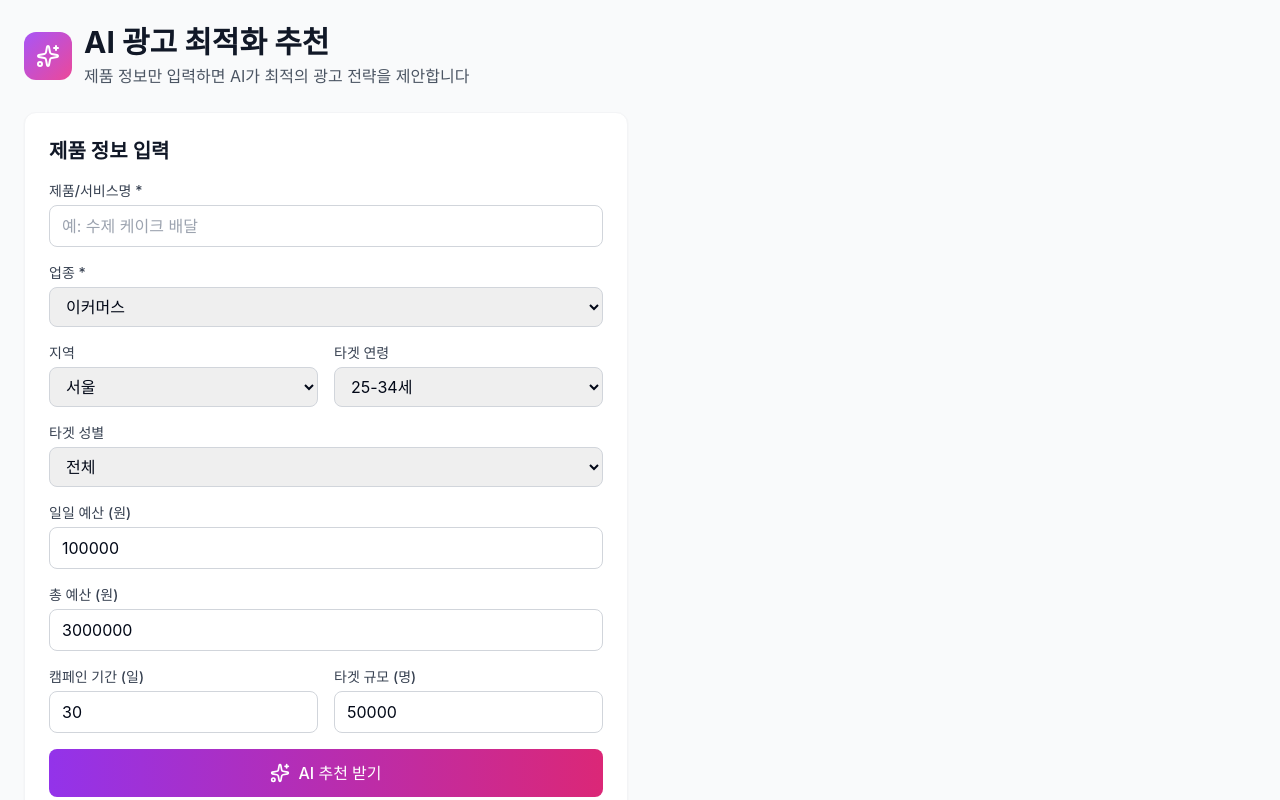
Test: AIRecommendationPage › 6. API 성공 — 신뢰도 medium → 노란색 배지 + "중간" 텍스트 표시
This screenshot has width=1280, height=800.
Type "수제 케이크" into the field with placeholder "예: 수제 케이크 배달" at (326, 226), box [49, 205, 603, 247]
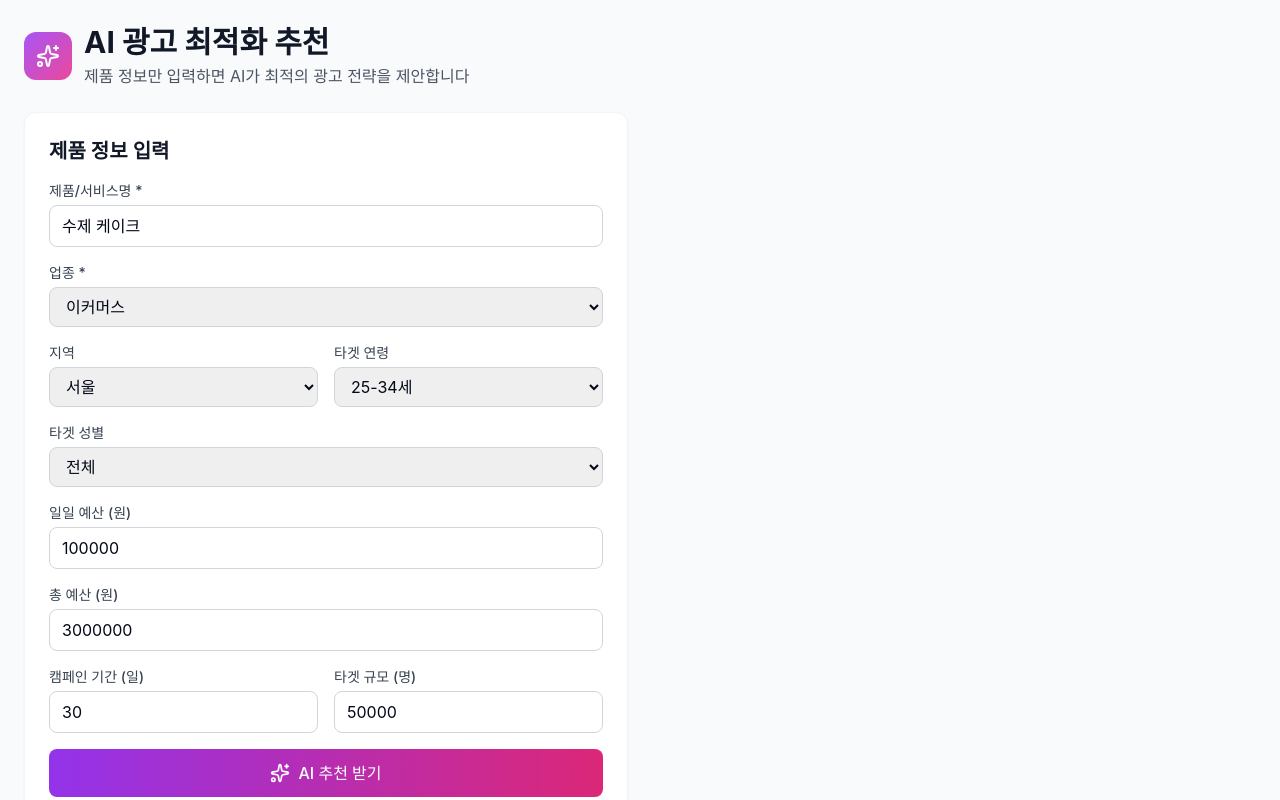
Click the button "AI 추천 받기" at (326, 773), box [49, 749, 603, 797]
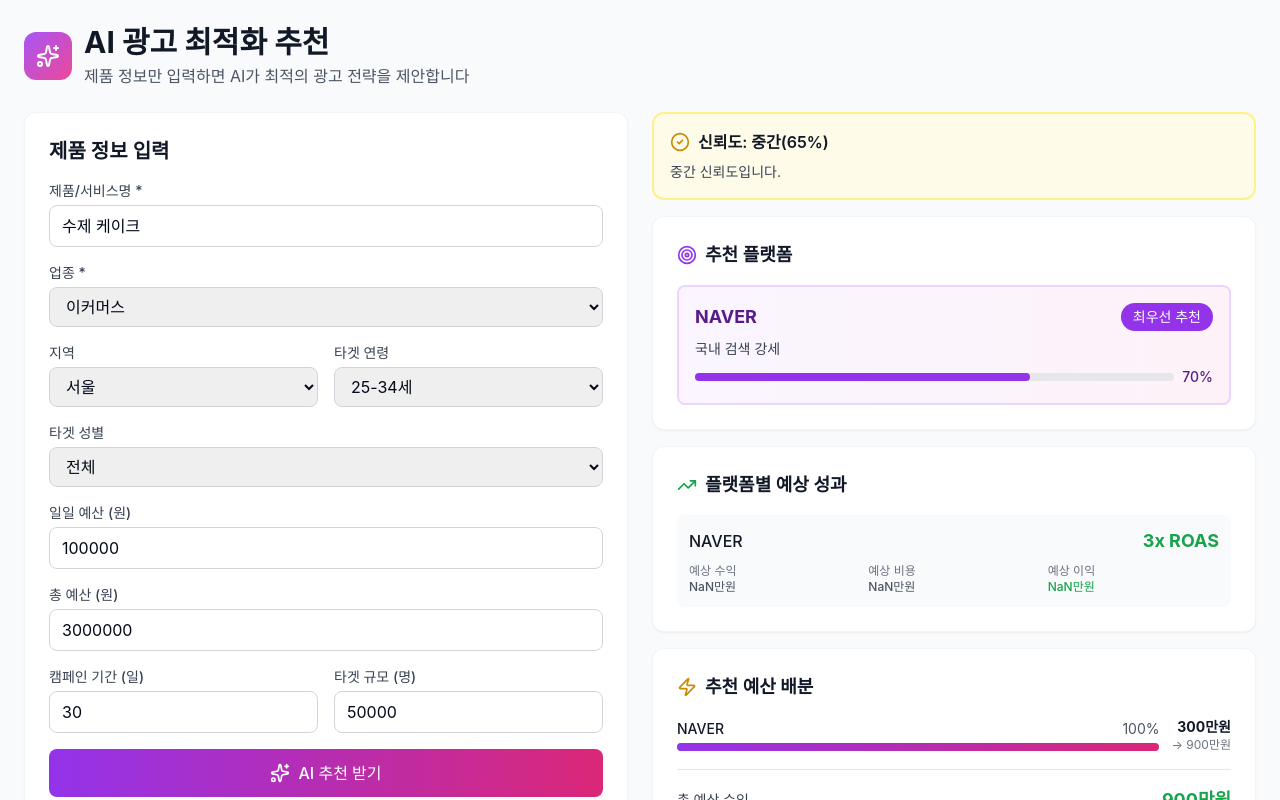
Result: the heading "신뢰도: 중간(65%)" is shown at [698, 130, 829, 154]
